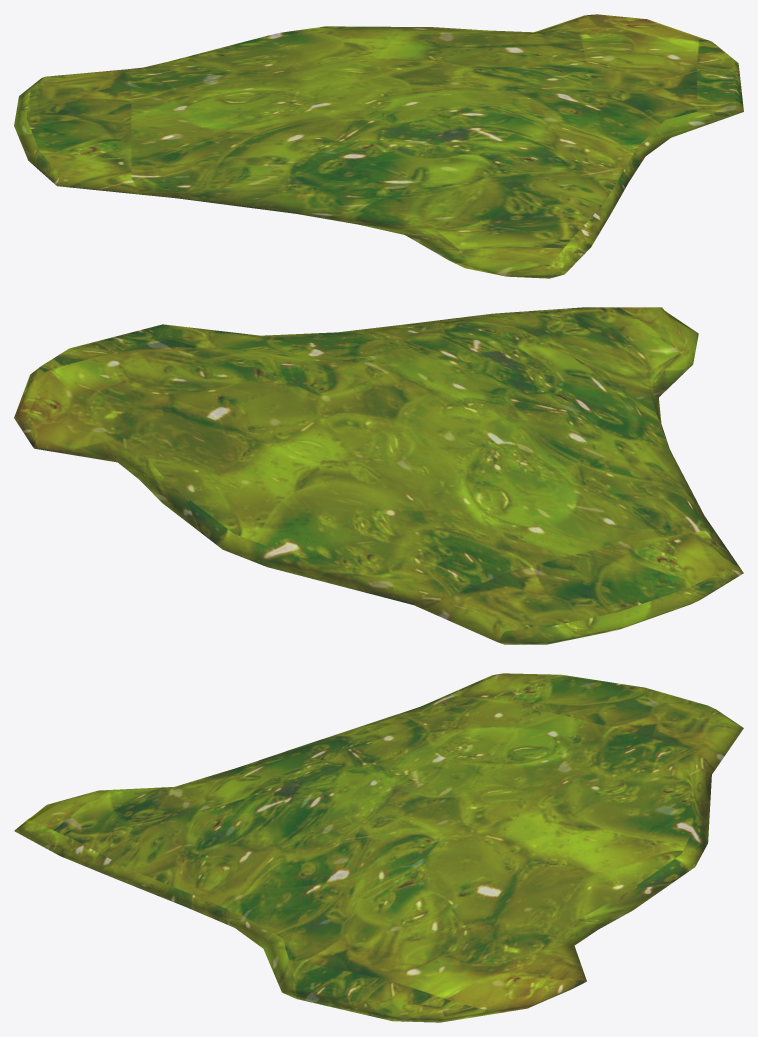
Rendered from Oniscidea_SapBlob.fbx.
3 views of the same model, one above another, from view 1: azimuth 30°, elevation 25°; view 2: azimuth 150°, elevation 25°; view 3: azimuth 270°, elevation 25° (orthographic). The views are drawn at different scales.
Visible parts, largest first — view 1: pCube1; view 2: pCube1; view 3: pCube1.
Part boxes in pixels (x1,y1,x2,y2): pCube1: [14, 14, 743, 278]; pCube1: [14, 307, 743, 644]; pCube1: [14, 673, 743, 1022].
Bounding box in the file's own units: 3.8 × 0.3527 × 3.42.
